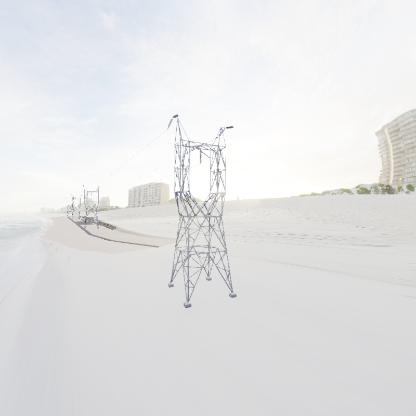tower: (163, 113, 239, 315)
